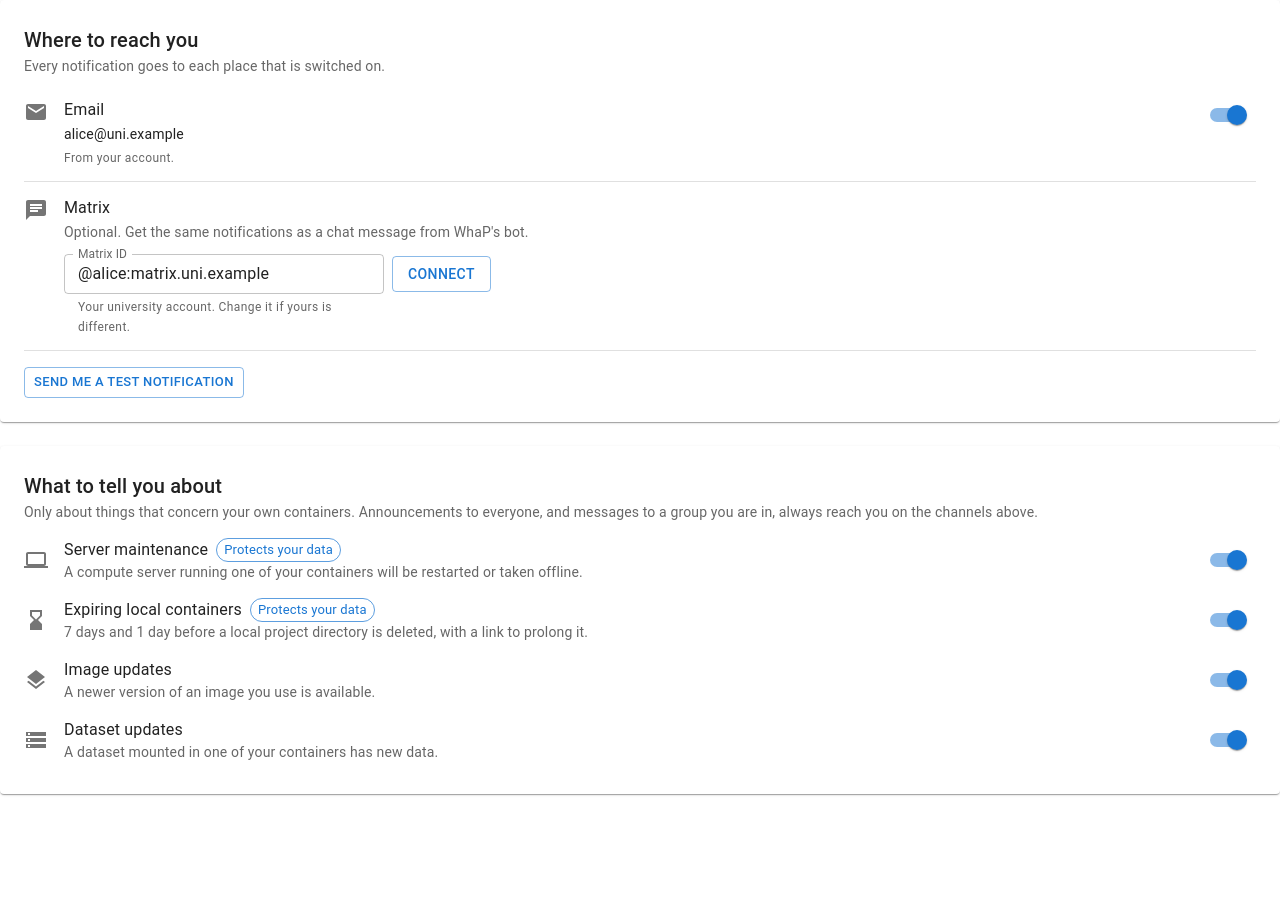
Test: a refused Matrix ID is explained
The image size is (1280, 900).
Expected: the heading "Where to reach you" is shown, [24,28,198,52]
Click the button with test id "settings-matrix-connect".
click(441, 274)  # box [392,256,491,292]
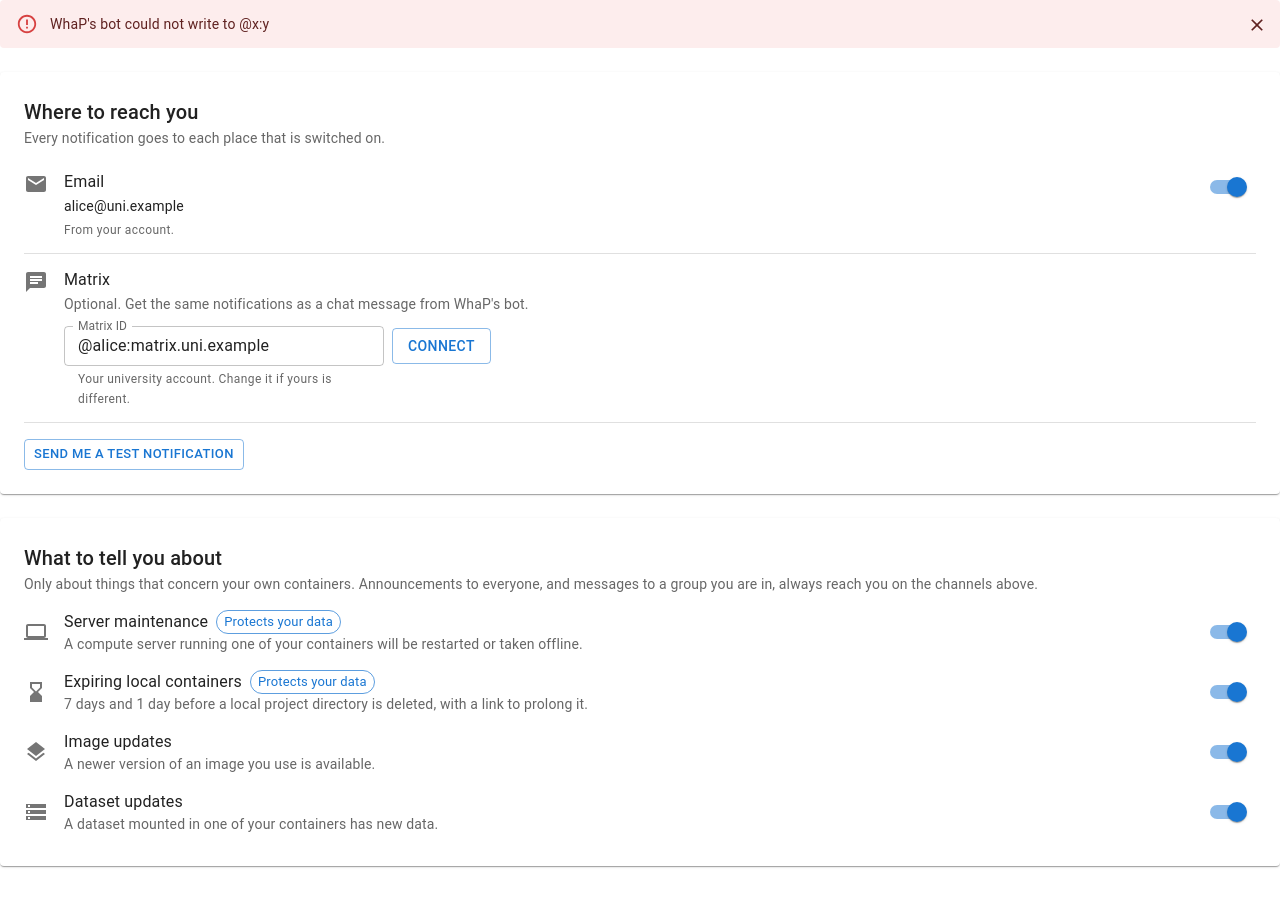
Now the message with test id "settings-error" reads "WhaP's bot could not write to @x:y", box [50,16,269,32]
